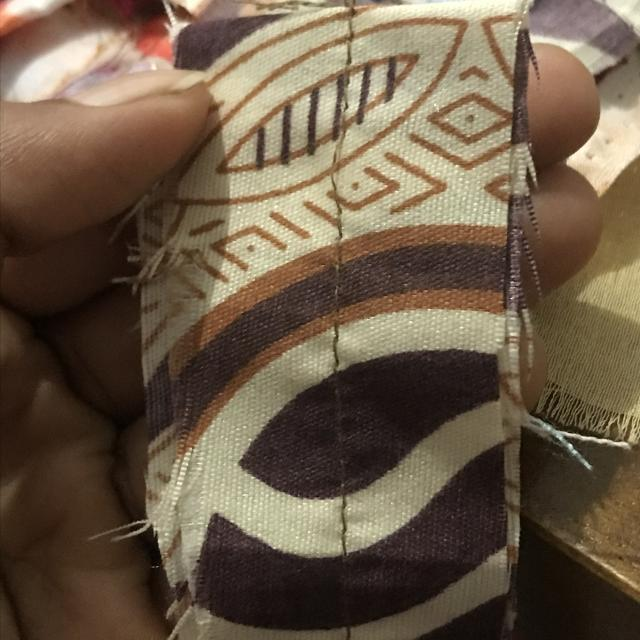skip: (307, 110, 358, 221)
